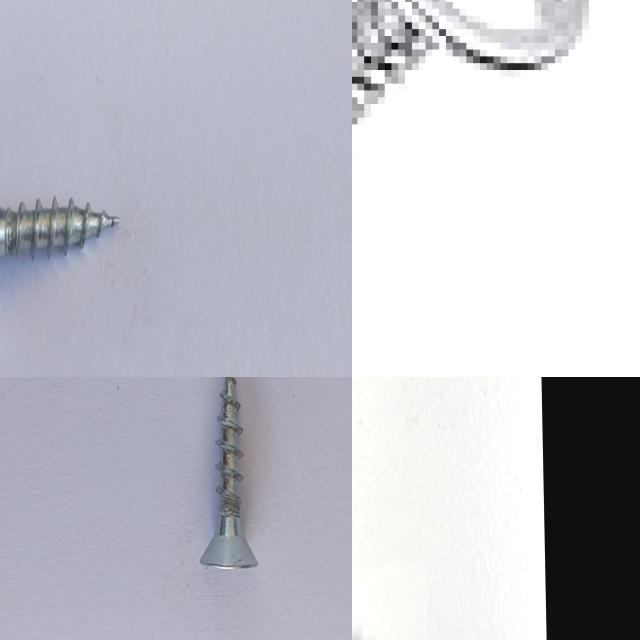Screw: (352, 0, 589, 135), (200, 377, 257, 568), (0, 196, 119, 258)
